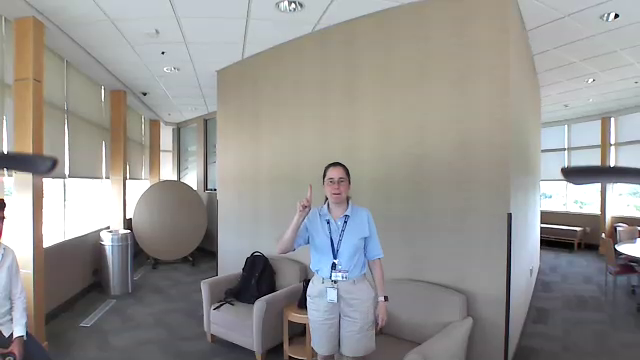up: (293, 180, 317, 217)
